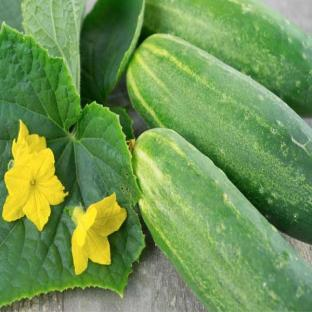Cucumber: (127, 35, 311, 242), (133, 129, 311, 311)
